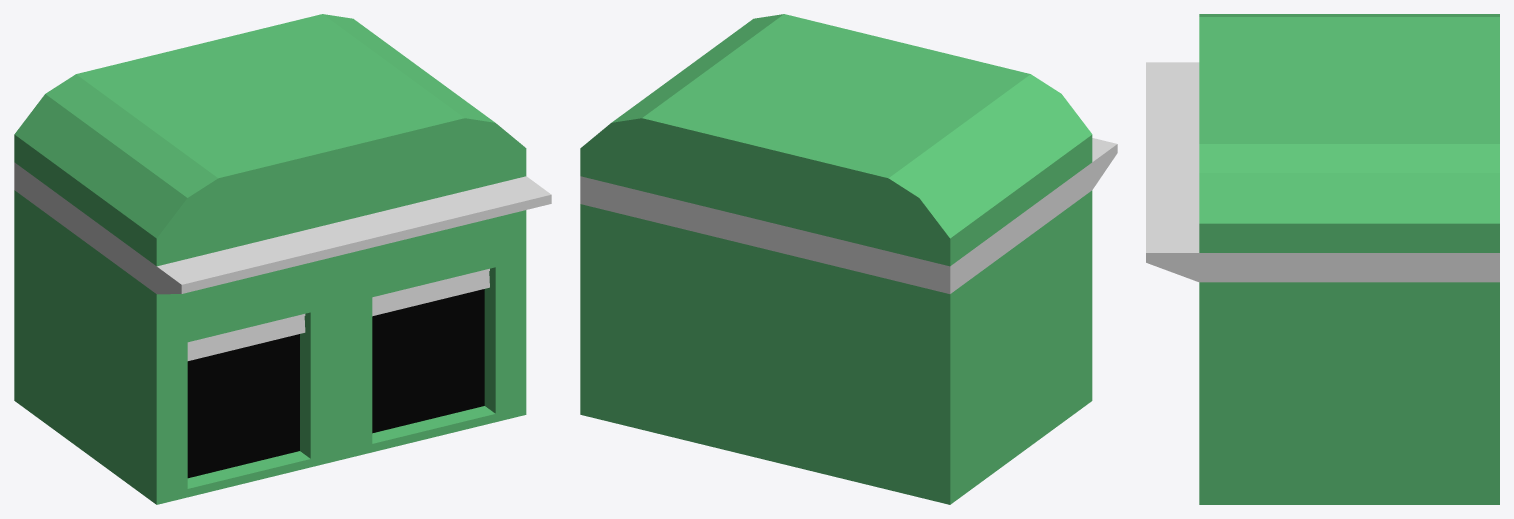
File: Store_open_green.fbx
3 renders of one model, left to right at view 1: azimuth 30°, elevation 25°; view 2: azimuth 150°, elevation 25°; view 3: azimuth 270°, elevation 25°, orthographic. The views are drawn at different scales.
Visible parts, largest first — view 1: StoreOpenDoor.002; view 2: StoreOpenDoor.002; view 3: StoreOpenDoor.002.
Boxes of the visible parts, bbox=[...] form: StoreOpenDoor.002: bbox=[14, 14, 551, 504]; StoreOpenDoor.002: bbox=[580, 14, 1117, 504]; StoreOpenDoor.002: bbox=[1146, 14, 1499, 504].
Bounding box in the file's own units: 300 × 242 × 235.
